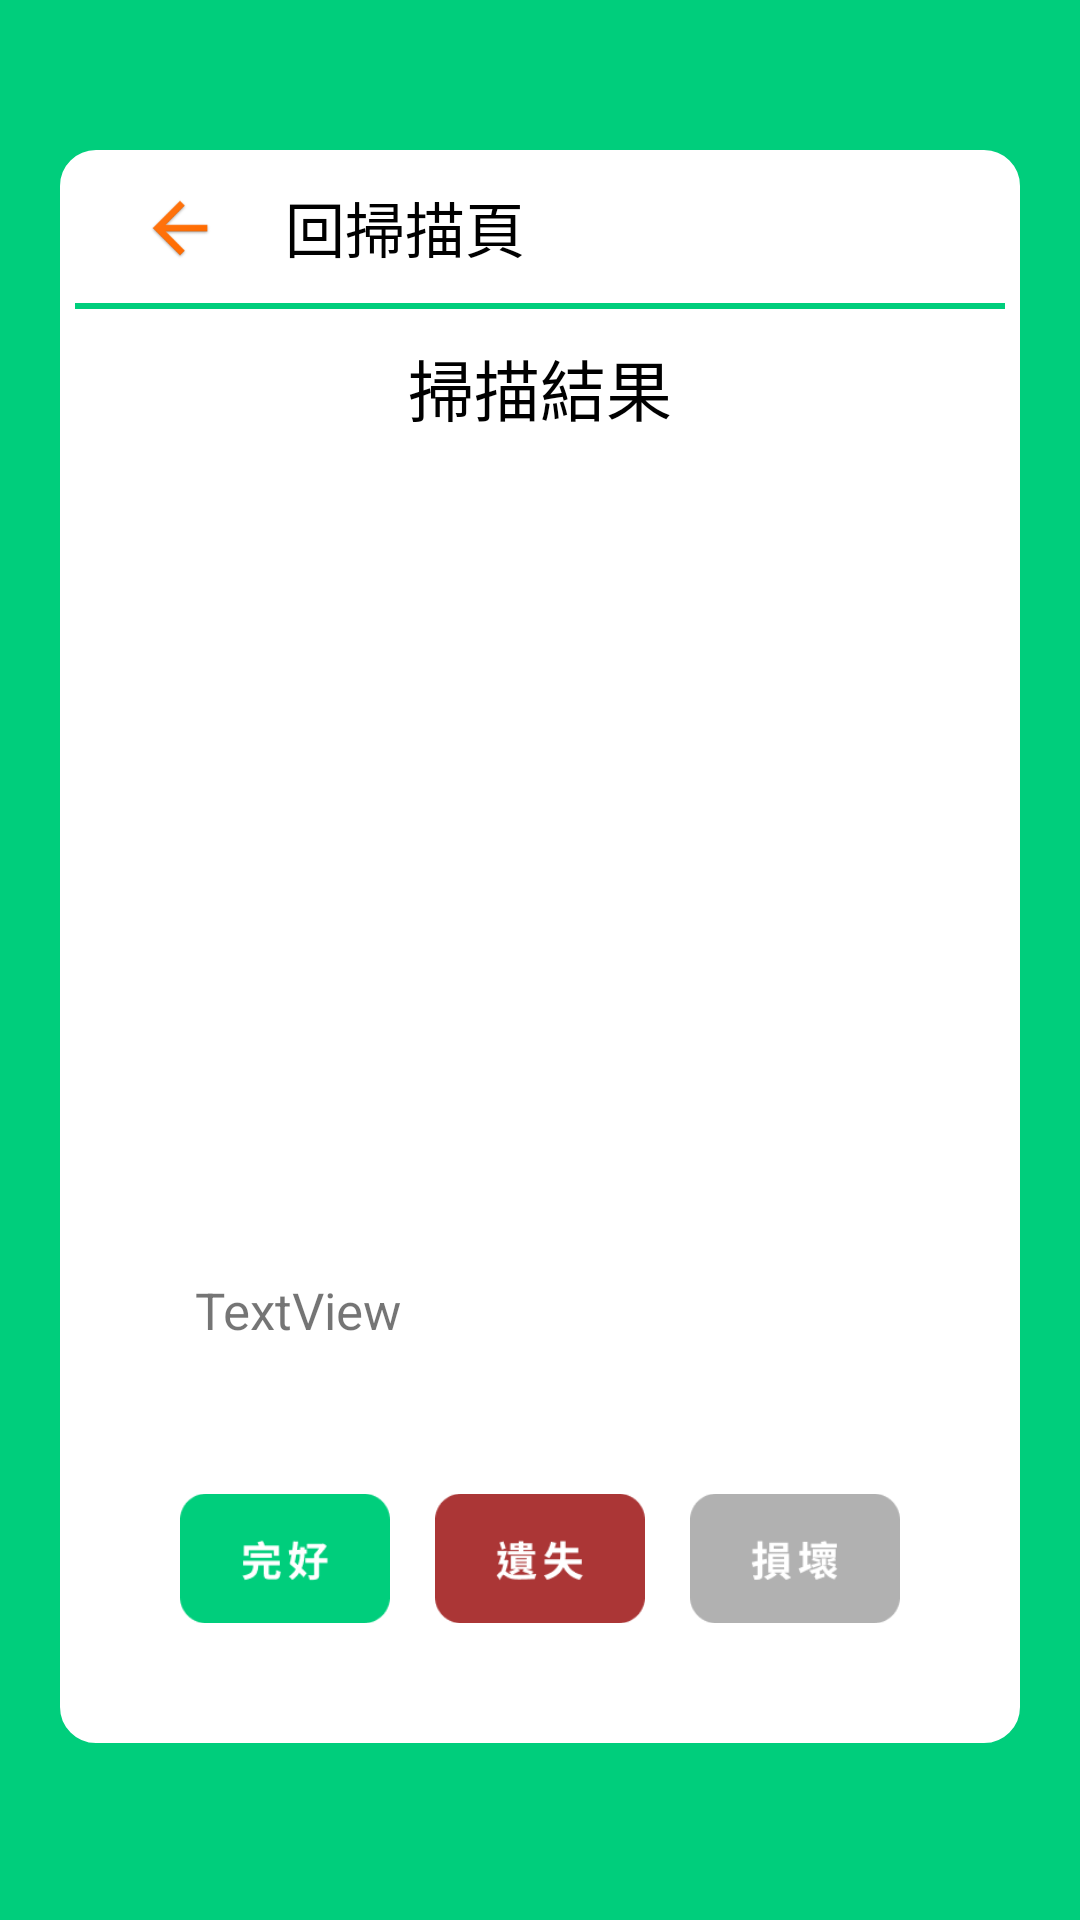

Icon click points for this 1080*1920 phone screenshot, format (x=x, y=y):
goback: (x=180, y=228)
